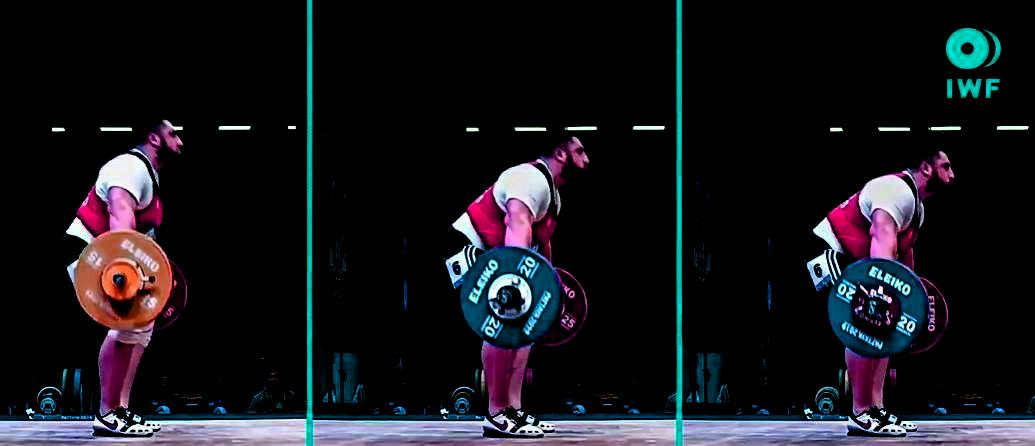Barbell: (858, 299, 887, 323), (496, 288, 519, 306), (109, 273, 128, 288)
